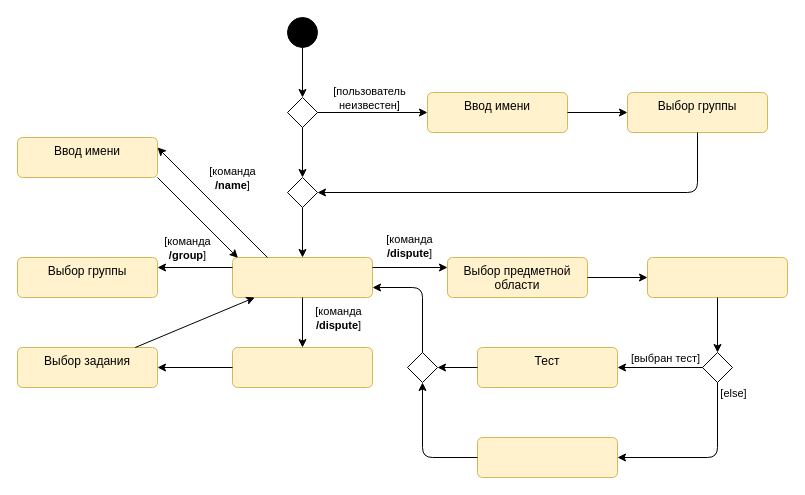
The diagram is 805 pixels wide and 495 high, and some of its shapes have lost their labels. Each missing label, with the centre of its shape:
Выбор контроля знаний: (x=302, y=367)
Выбор типа оценивания: (x=717, y=277)
Задания со свободным выбором: (x=547, y=457)
Основное состояние: (x=302, y=277)
